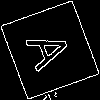A: (25, 25, 82, 73)
